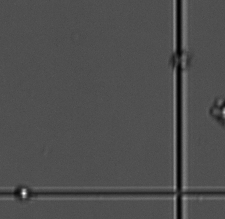Living Cell: (15, 185, 33, 203)
